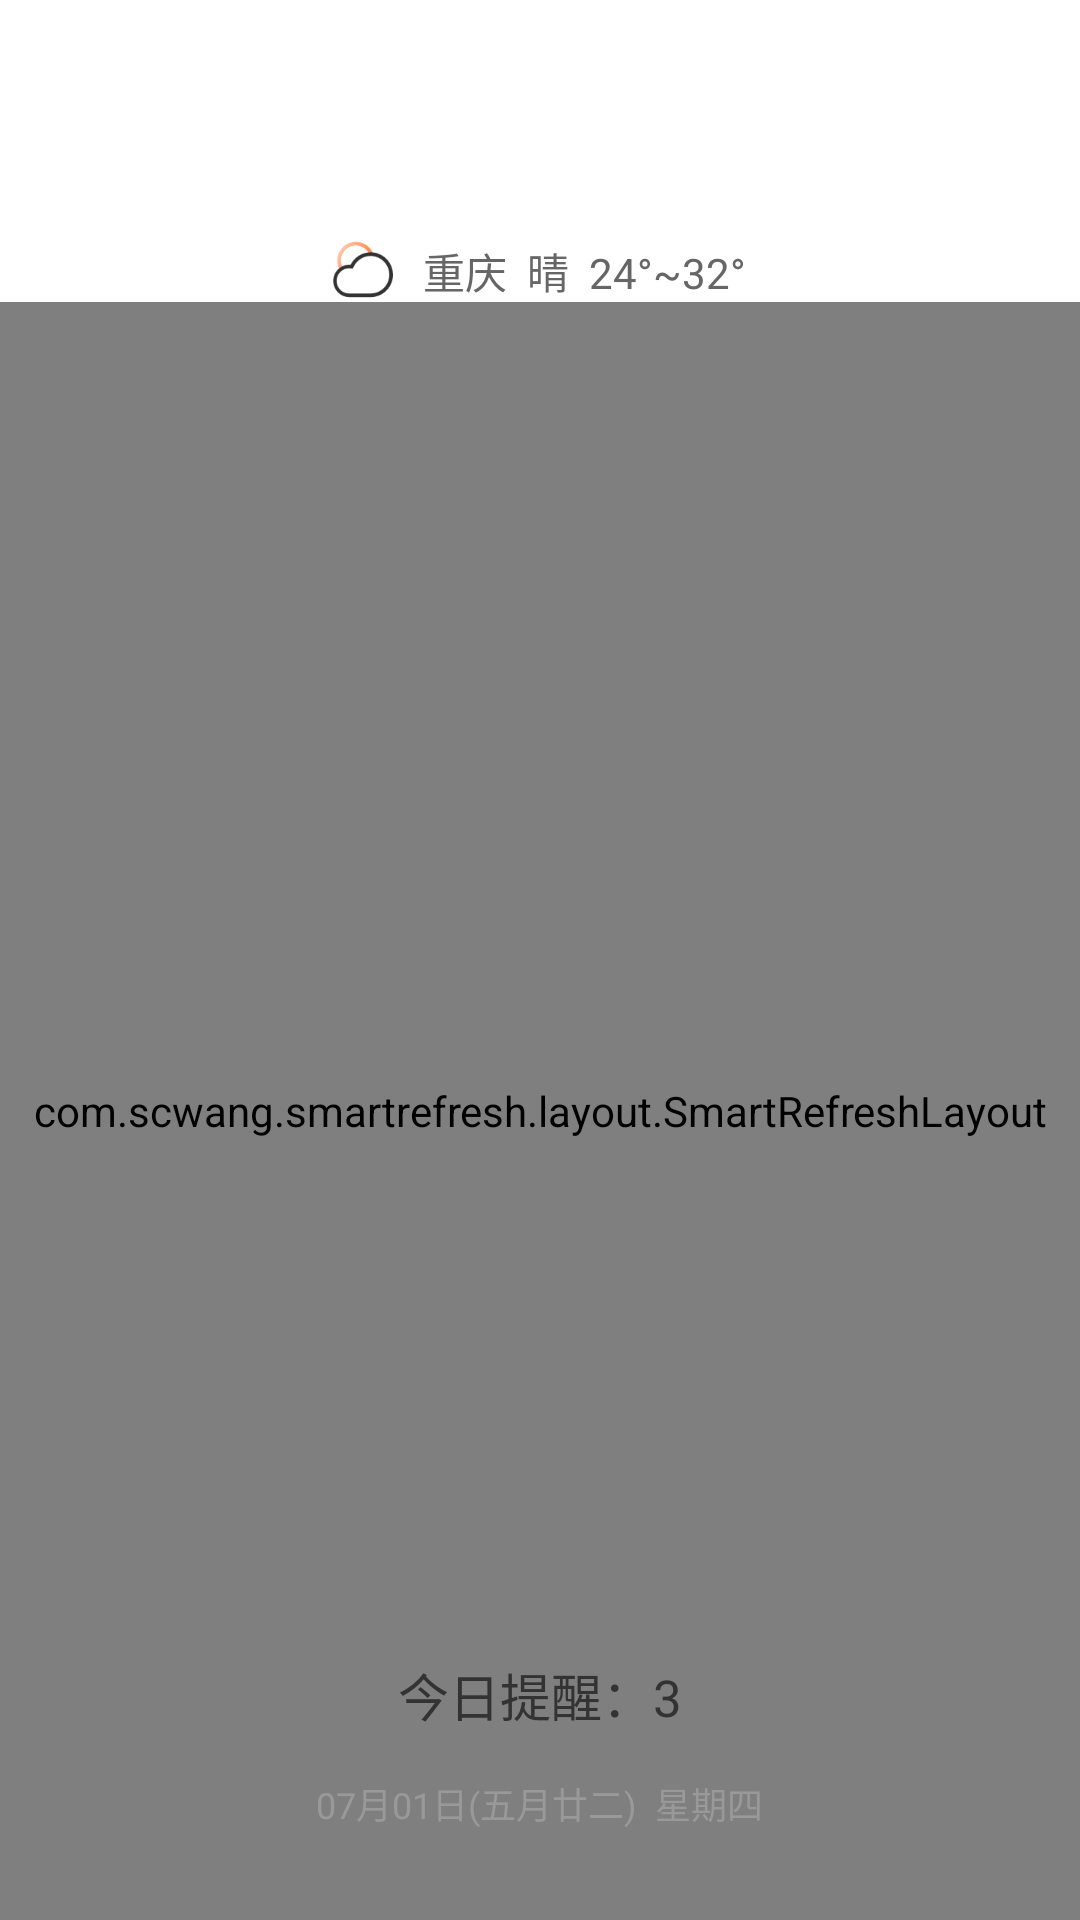

Icon bounding boxes for this 1080 × 1920 phone screenshot, format {"left": x1, "top": y1, "right": x2, "bottom": y2}:
home weather cloudy: {"left": 333, "top": 241, "right": 393, "bottom": 298}
